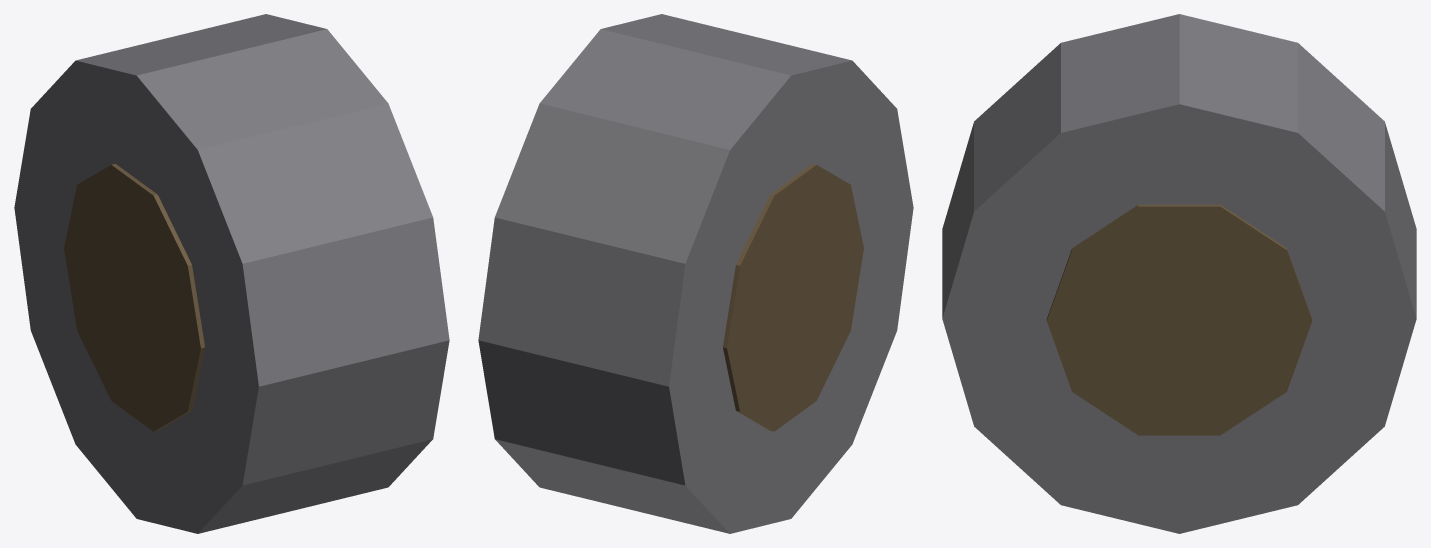
The model's file is tape.glb.
The picture shows the model from 3 angles, left to right: view 1: azimuth 30°, elevation 25°; view 2: azimuth 150°, elevation 25°; view 3: azimuth 270°, elevation 25°; orthographic projection. The views are drawn at different scales.
Parts seen in each view (by area): view 1: tape; view 2: tape; view 3: tape.
Part boxes in pixels (x1,y1,x2,y2): tape: (14,14,449,533); tape: (478,14,913,533); tape: (942,14,1416,533).
Bounding box in the file's own units: 0.047 × 0.1 × 0.1.
